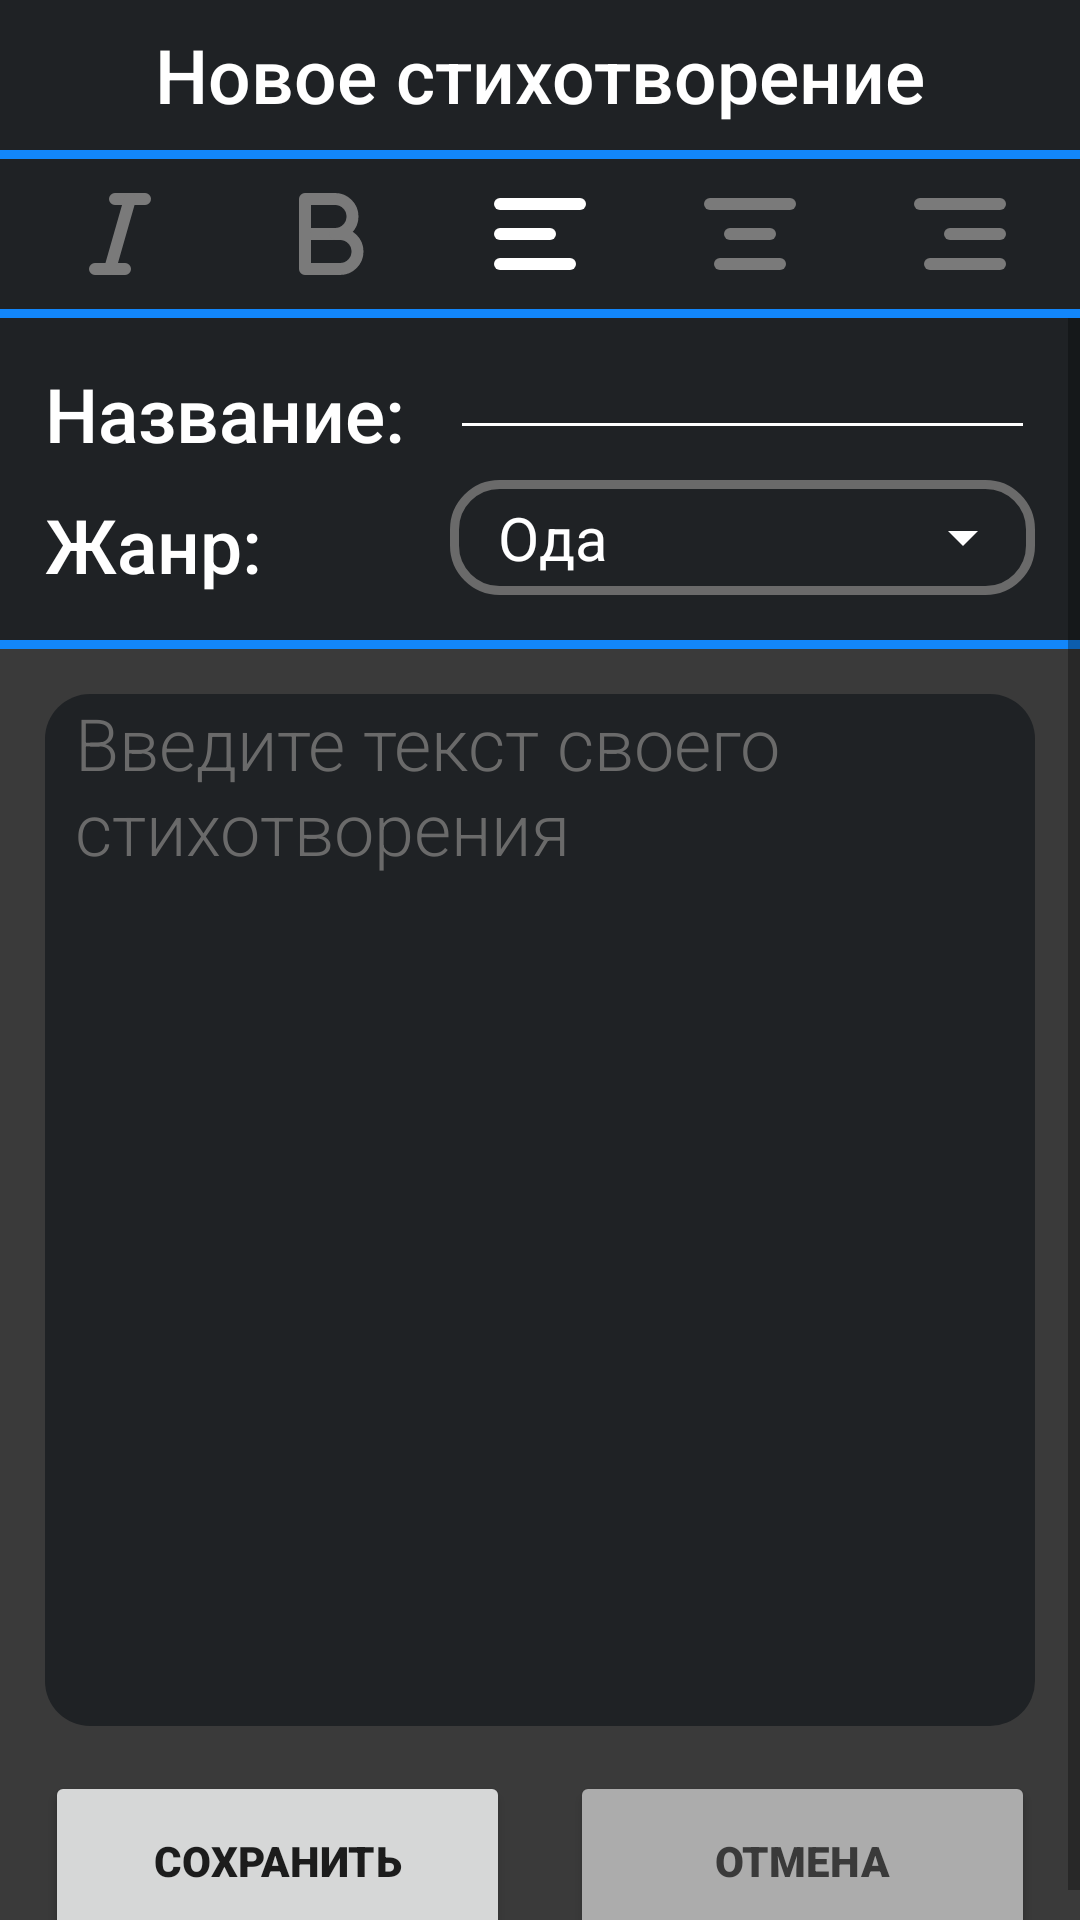

Named icons in this screenshot (1080 x 1920) and their centers, [x,y]:
align center: [750,234]
align left pushed: [540,234]
align right: [960,234]
italic: [120,234]
